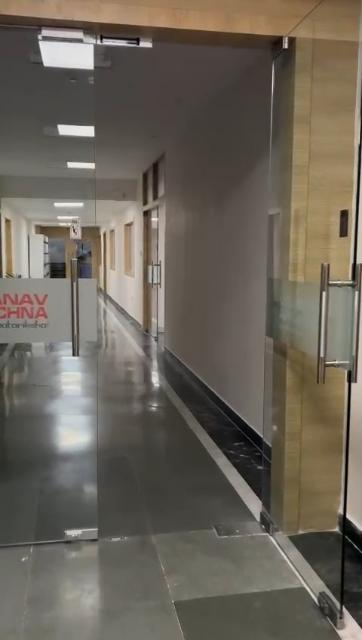door: (136, 170, 162, 334)
floor: (0, 304, 360, 640)
wall: (179, 70, 268, 380)
